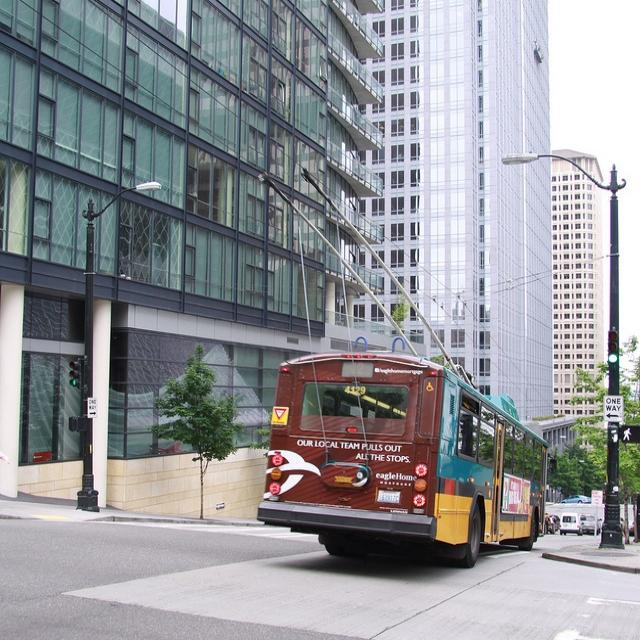bus: (256, 334, 549, 566)
car: (557, 511, 581, 534), (577, 512, 595, 533), (559, 493, 590, 502), (620, 516, 633, 535), (543, 511, 554, 533), (548, 513, 559, 530)
pole: (589, 165, 625, 549), (72, 200, 101, 510)
